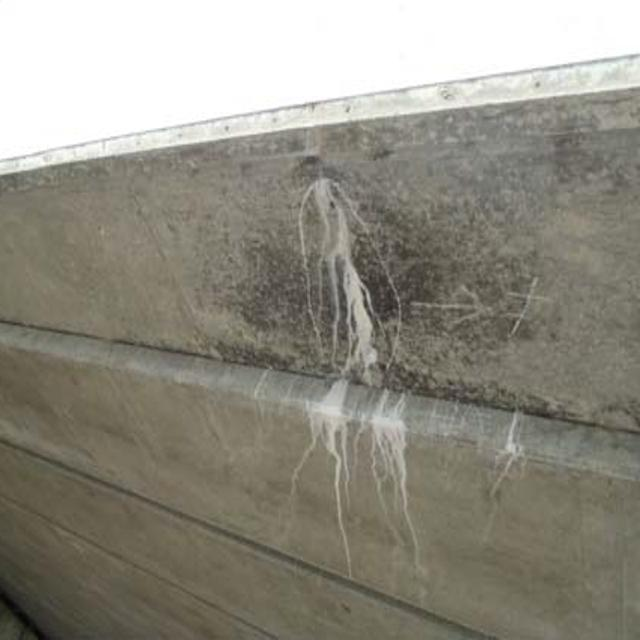freelime: (273, 187, 421, 517)
